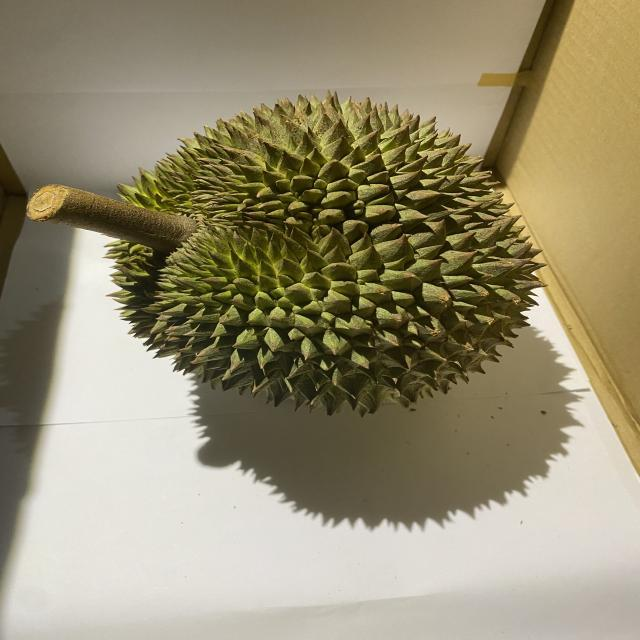immature: (102, 87, 550, 417)
